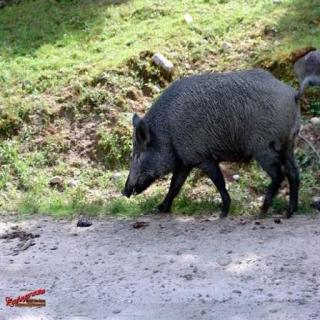Pig: (110, 55, 320, 219), (298, 38, 320, 114)
